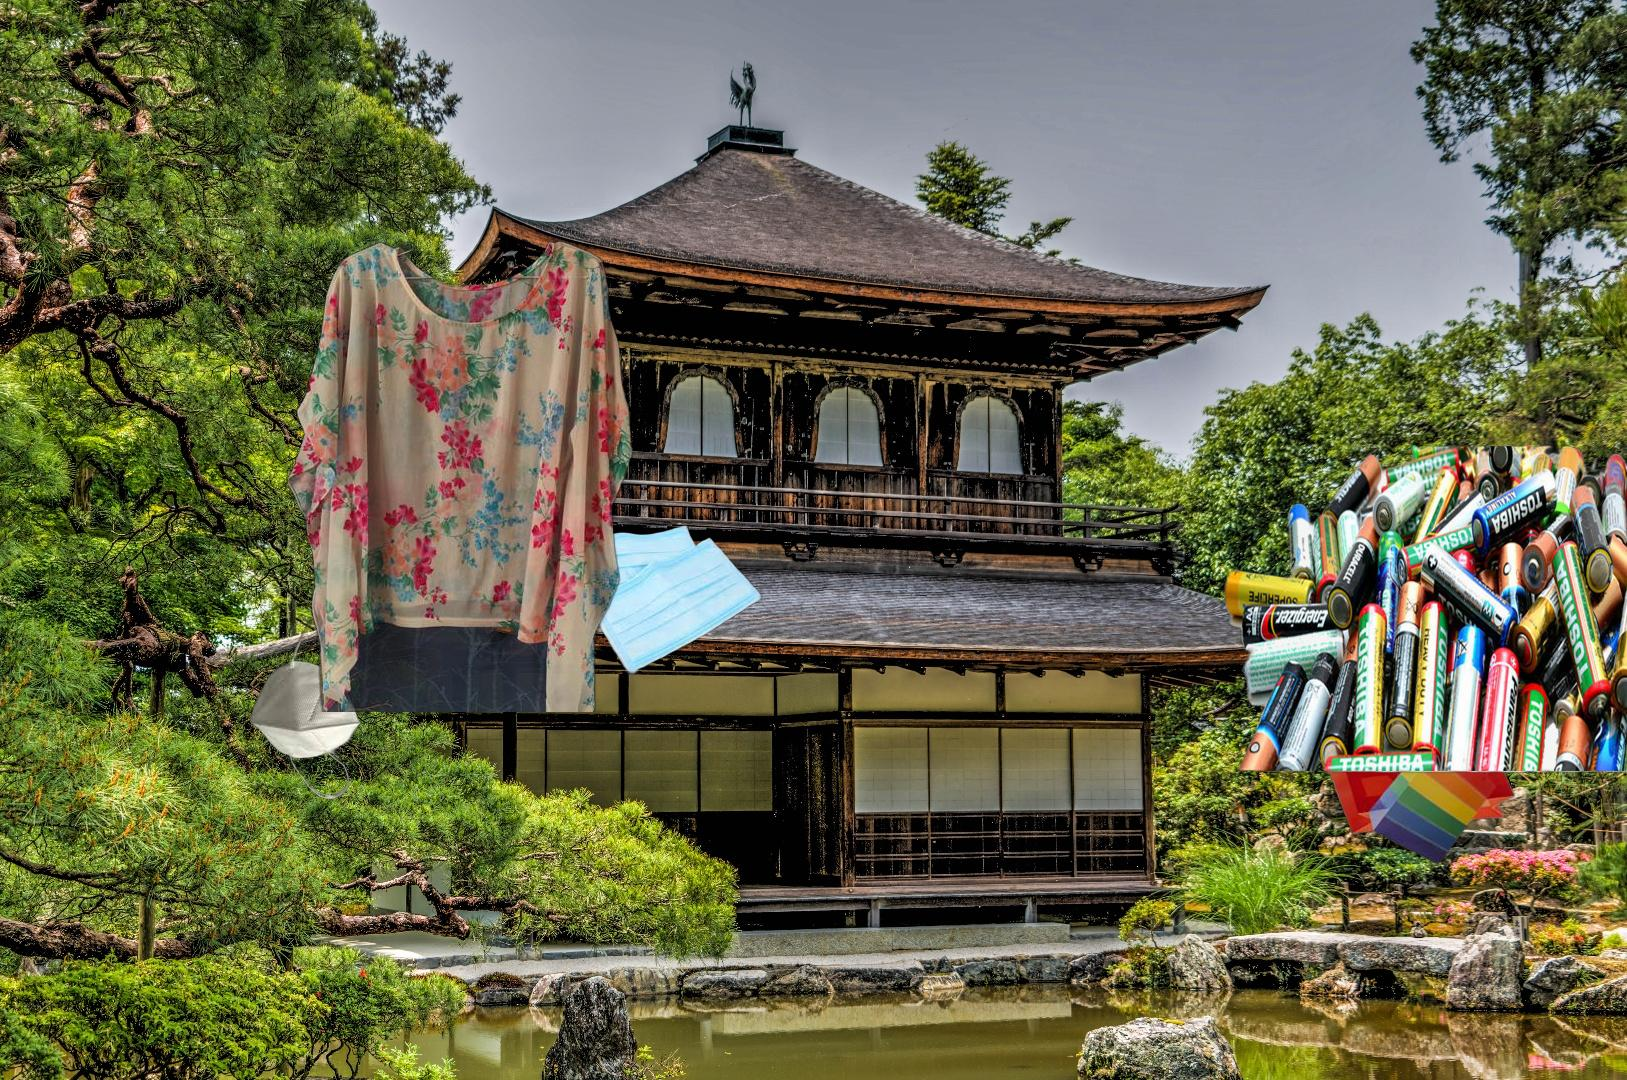battery: (1218, 441, 1627, 776)
clothes: (282, 231, 636, 712)
paper-bag: (1316, 695, 1519, 867)
trash: (542, 522, 766, 677), (247, 609, 365, 802)
